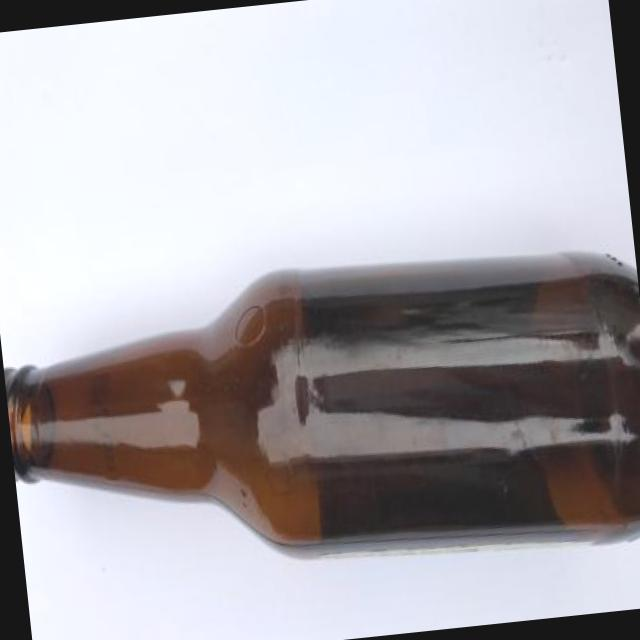chai_thuy_tinh: (3, 255, 640, 558)
